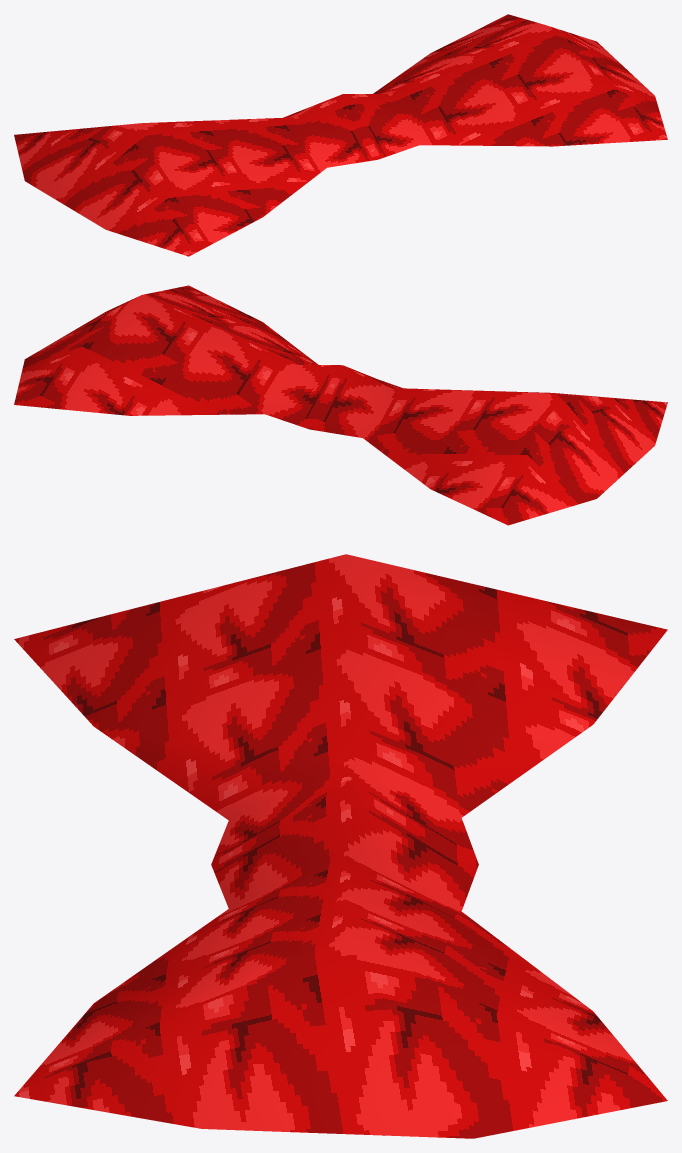
Rendered from 2866head058_c.gltf.
3 views of the same model, one above another, from view 1: azimuth 30°, elevation 25°; view 2: azimuth 150°, elevation 25°; view 3: azimuth 270°, elevation 25° (orthographic). The views are drawn at different scales.
Parts seen in each view (by area): view 1: 2866head058_c; view 2: 2866head058_c; view 3: 2866head058_c.
Part boxes in pixels (x1,y1,x2,y2): 2866head058_c: [14, 14, 667, 256]; 2866head058_c: [14, 285, 667, 525]; 2866head058_c: [14, 554, 667, 1138].
Size of the model in its own units: 0.8569 by 0.0891 by 0.4341.
1 material, 1 textured.
